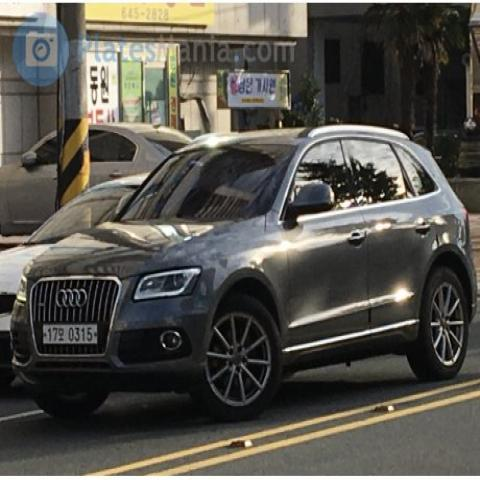LP: (34, 314, 106, 356)
